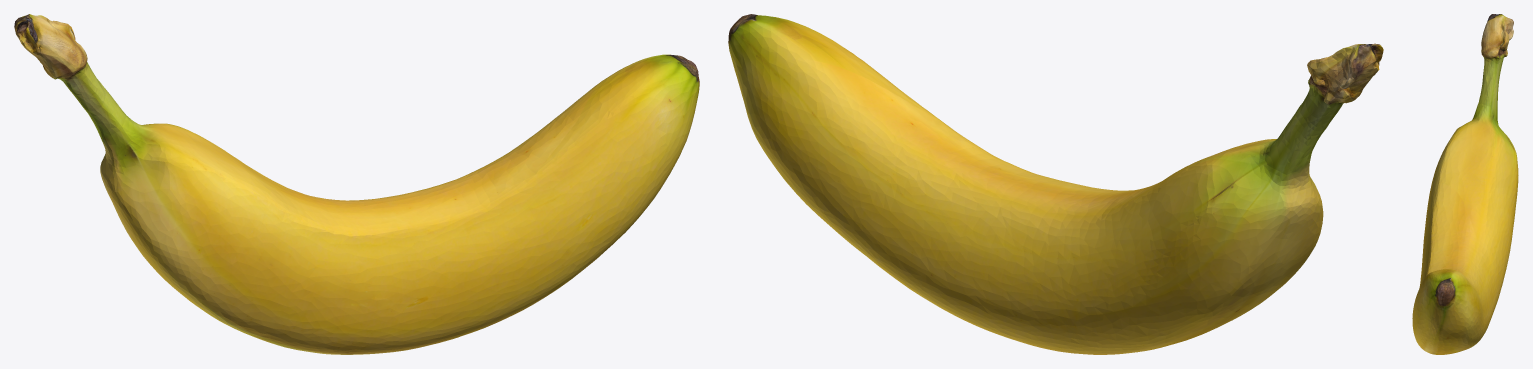
Rendered from Banana.obj.
3 views of the same model, side by side, from view 1: azimuth 30°, elevation 25°; view 2: azimuth 150°, elevation 25°; view 3: azimuth 270°, elevation 25° (orthographic). The views are drawn at different scales.
Parts seen in each view (by area): view 1: 3d_Banana_0616013007_texture; view 2: 3d_Banana_0616013007_texture; view 3: 3d_Banana_0616013007_texture.
Boxes of the visible parts, bbox=[...] form: 3d_Banana_0616013007_texture: bbox=[14, 14, 699, 354]; 3d_Banana_0616013007_texture: bbox=[728, 14, 1383, 354]; 3d_Banana_0616013007_texture: bbox=[1412, 14, 1518, 354].
Size of the model in its own units: 1.99 by 1.13 by 0.4868.
1 material, 1 textured.
